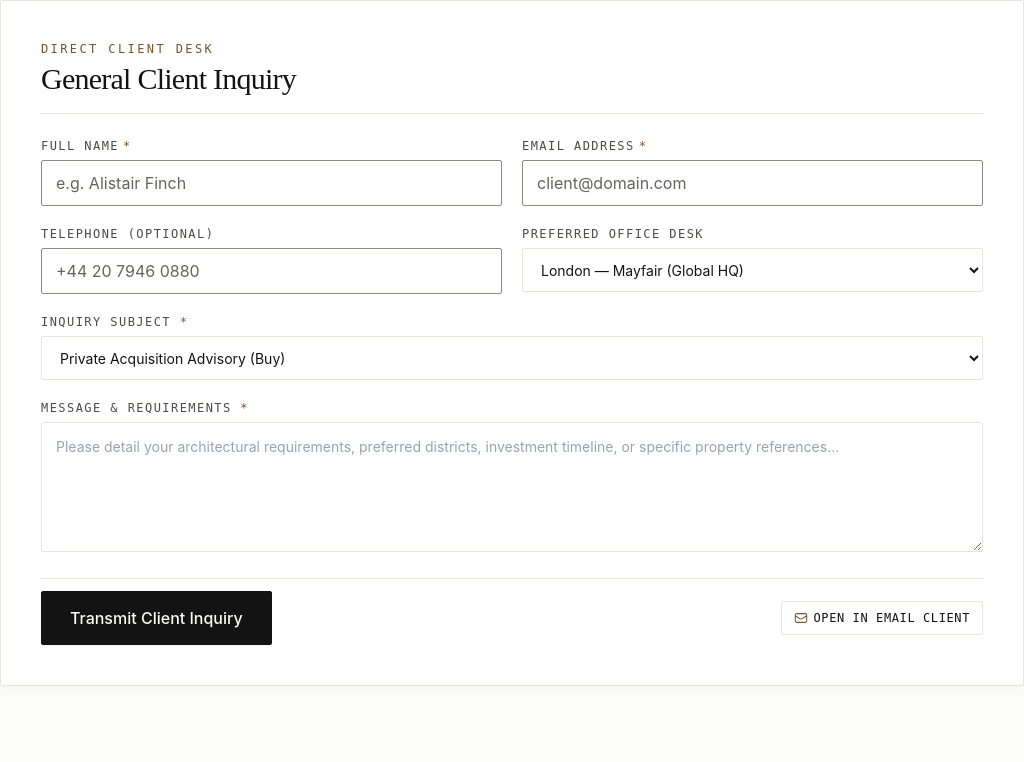
Tier 5 Adversarial: Form Boundary Inputs & RFC 2368 Hardening › ContactForm Boundary Tests › enforces minimum character constraints on subject and message
This screenshot has width=1024, height=762.
Type "J" into the field labelled "Full Name*" at coordinates (272, 183), box 41,160 -> 502,206
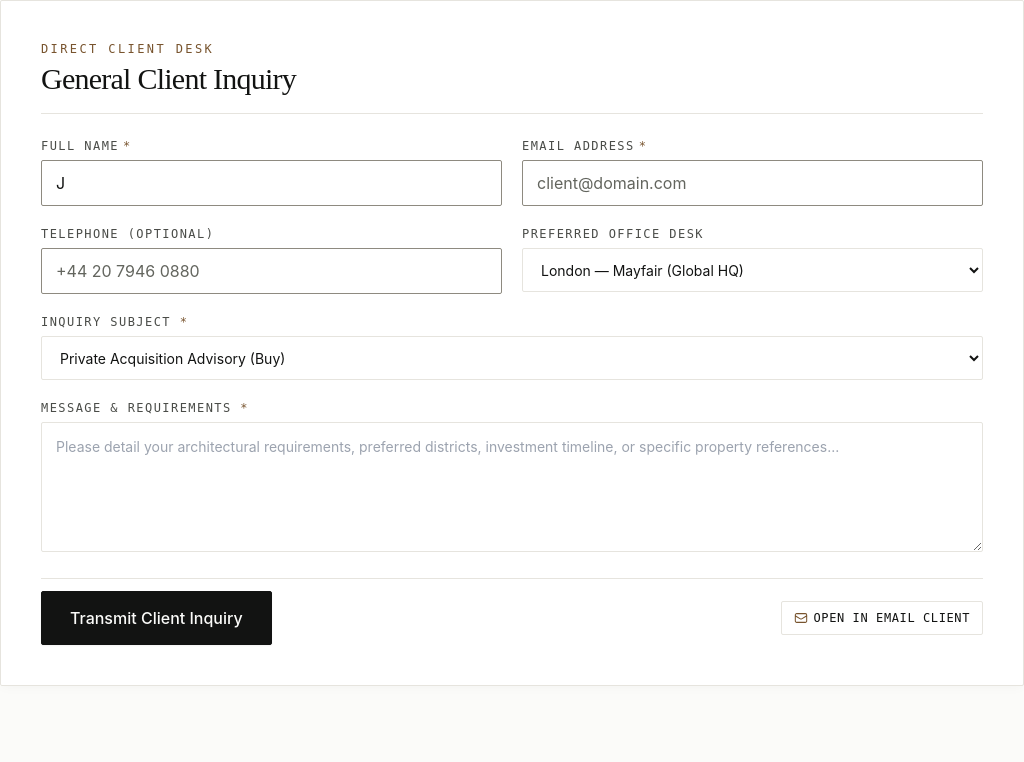
Type "invalid" into the field labelled "Email Address*" at coordinates (752, 183), box 522,160 -> 983,206
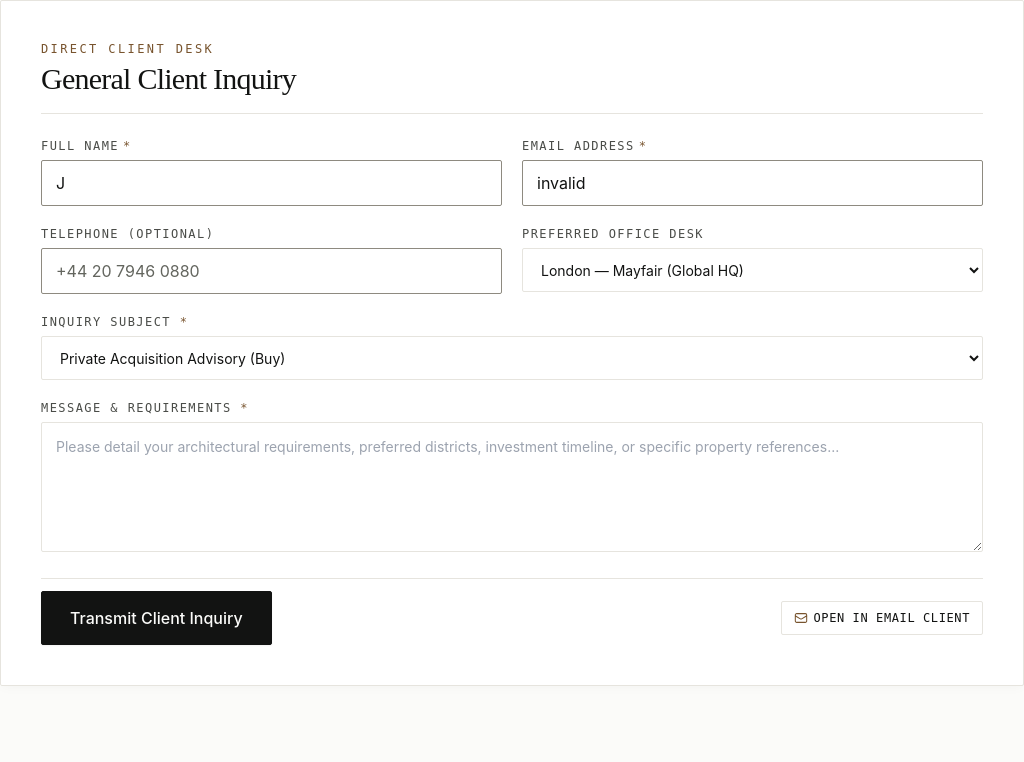
Replace the text in the text box labelled "Message & Requirements *" with "Short" at coordinates (512, 487), box 41,422 -> 983,552
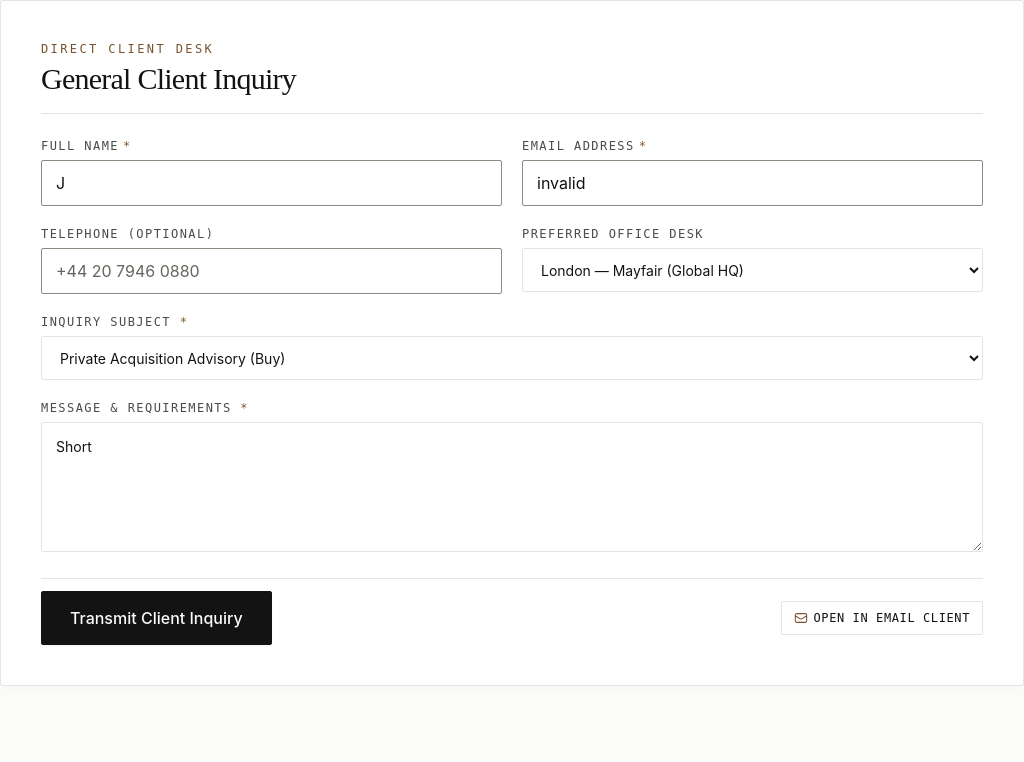
Click the button "Transmit Client Inquiry" at coordinates (156, 618), box 41,591 -> 272,645
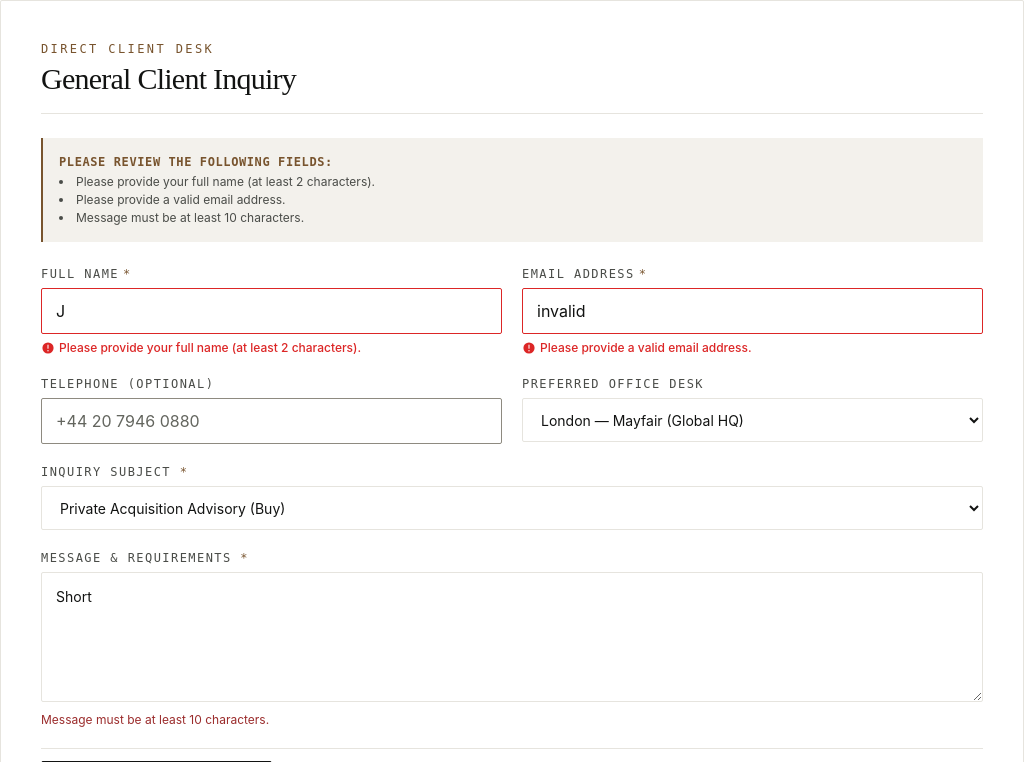
Now the list item "Please provide your full name (at least 2 characters)." is shown, box 76,174 -> 375,189
Now the list item "Please provide a valid email address." is shown, box 76,192 -> 286,207
Now the list item "Message must be at least 10 characters." is shown, box 76,210 -> 304,225
